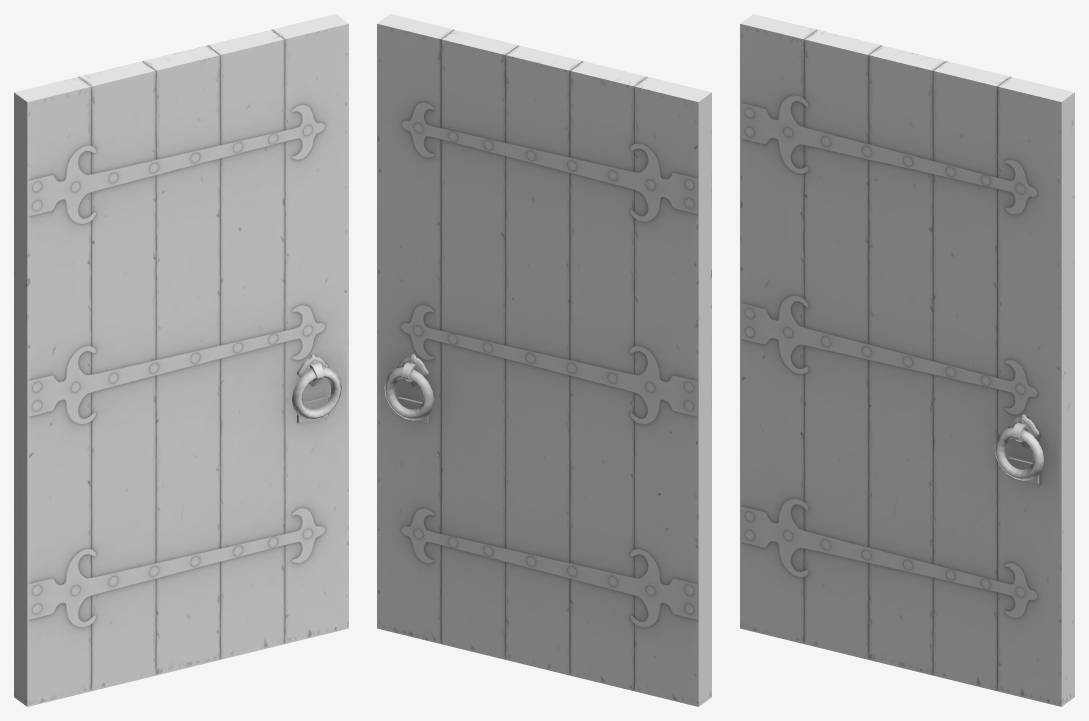
The model's file is Door.FBX.
3 renders of one model, left to right at view 1: azimuth 30°, elevation 25°; view 2: azimuth 150°, elevation 25°; view 3: azimuth 330°, elevation 25°, orthographic.
Visible parts, largest first — view 1: Box007; view 2: Box007; view 3: Box007.
Boxes of the visible parts, x1=… form: Box007: x1=14, y1=14, x2=348, y2=706; Box007: x1=377, y1=14, x2=711, y2=706; Box007: x1=740, y1=14, x2=1074, y2=706.
Size of the model in its own units: 43.3 by 7.55 by 77.82.
